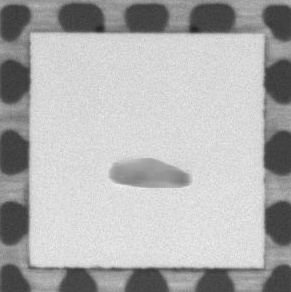DIE_INK: (96, 153, 203, 193)
